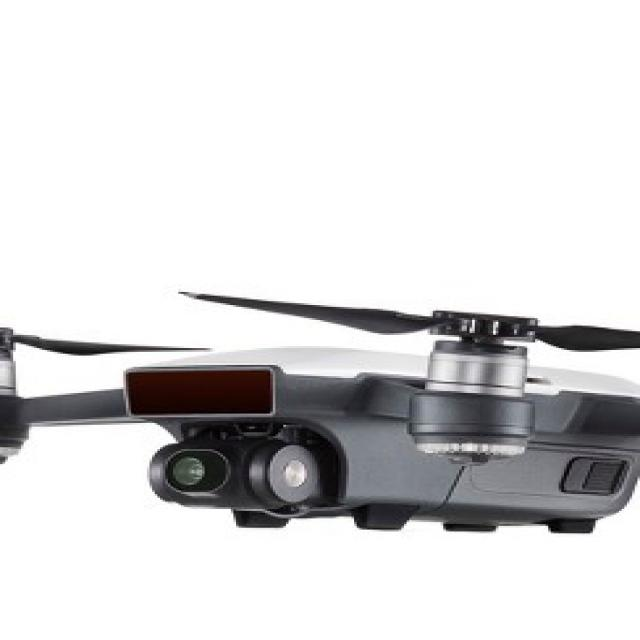drone: (0, 298, 640, 550)
